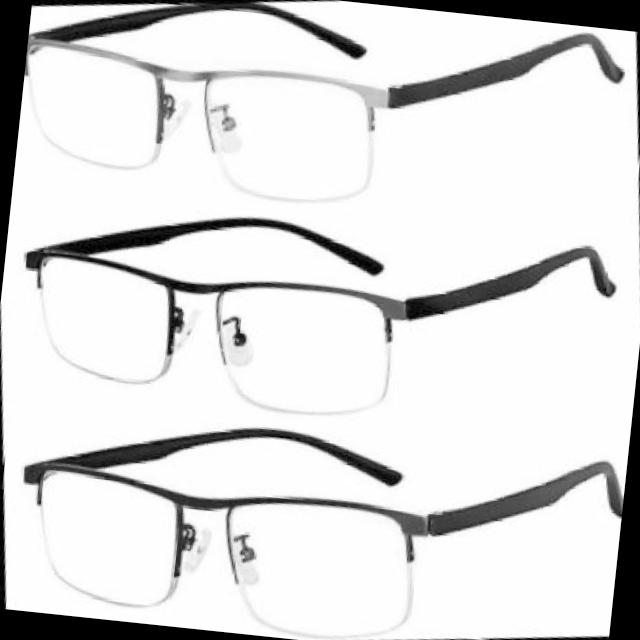glasses: (3, 149, 640, 483), (0, 352, 631, 640), (10, 0, 640, 269)
